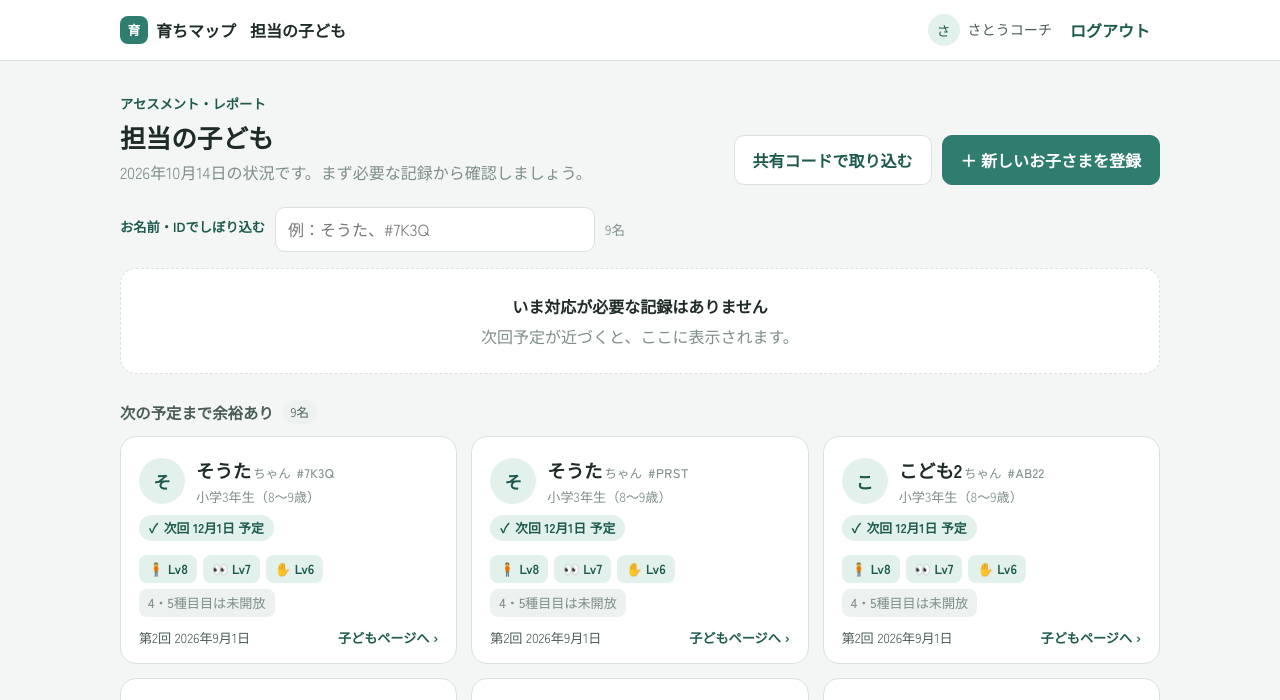
担当の子ども一覧 › 同じお名前のお子さまは、名前の横の短縮IDでしぼり込める
In the search field labelled "お名前・IDでしぼり込む": (435, 229) [275, 207, 595, 252], type "#7k3q"
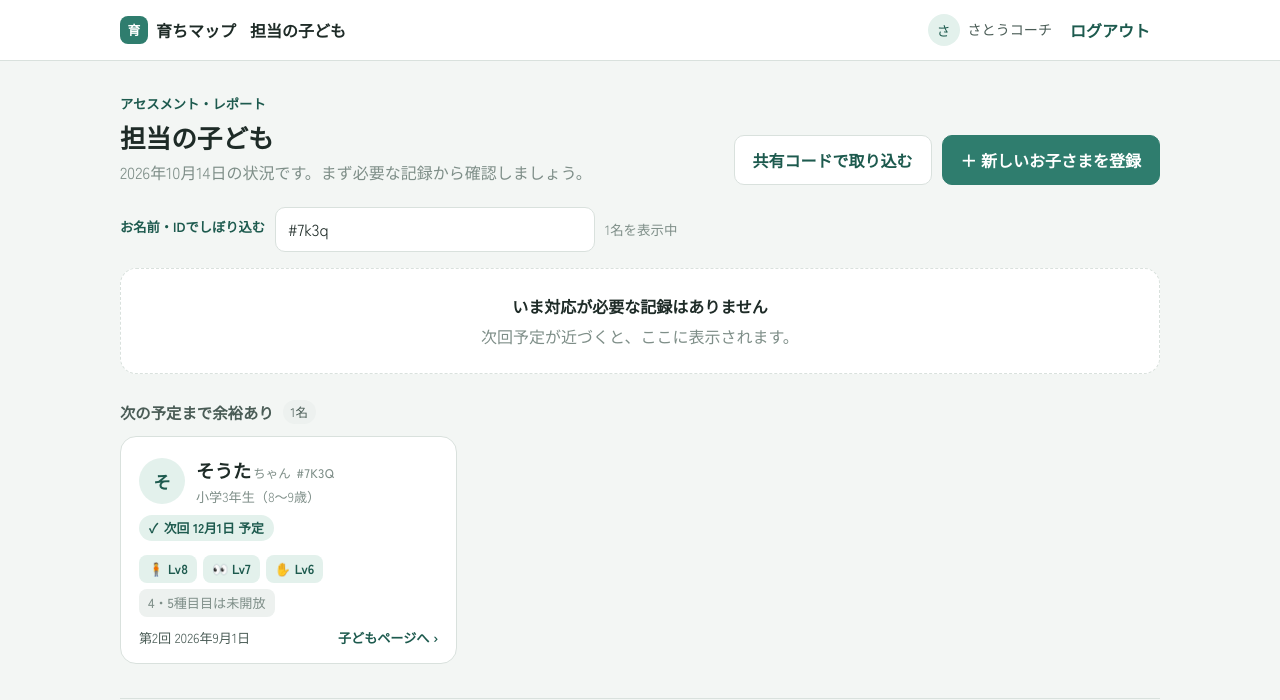
Check: the number of links "そうた" is 1, box [196, 457, 291, 483]
Check: the text "#PRST" is gone
